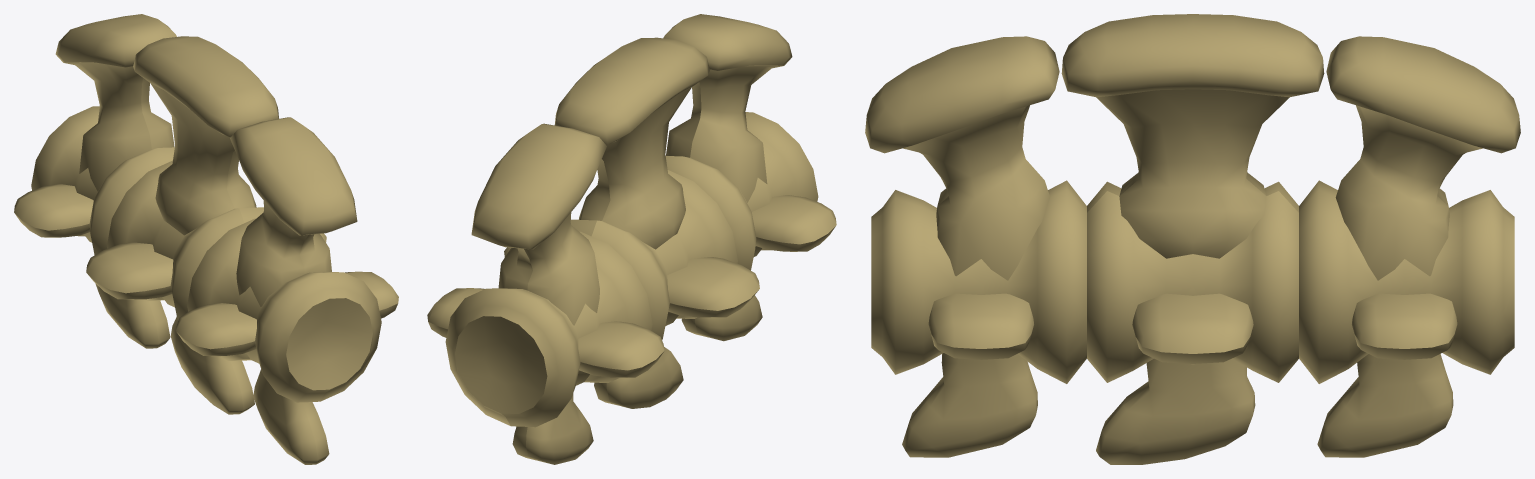
Rendered from obj_artifact_fossil09.fbx.
3 renders of one model, left to right at view 1: azimuth 30°, elevation 25°; view 2: azimuth 150°, elevation 25°; view 3: azimuth 270°, elevation 25°, orthographic. The views are drawn at different scales.
Visible parts, largest first — view 1: lod0_obj_artifact_fossil09.001; view 2: lod0_obj_artifact_fossil09.001; view 3: lod0_obj_artifact_fossil09.001.
Part boxes in pixels (x1=…): lod0_obj_artifact_fossil09.001: x1=14, y1=14, x2=398, y2=464; lod0_obj_artifact_fossil09.001: x1=427, y1=14, x2=836, y2=464; lod0_obj_artifact_fossil09.001: x1=865, y1=14, x2=1520, y2=464.
Bounding box in the file's own units: 5.87 × 8.34 × 11.47.
